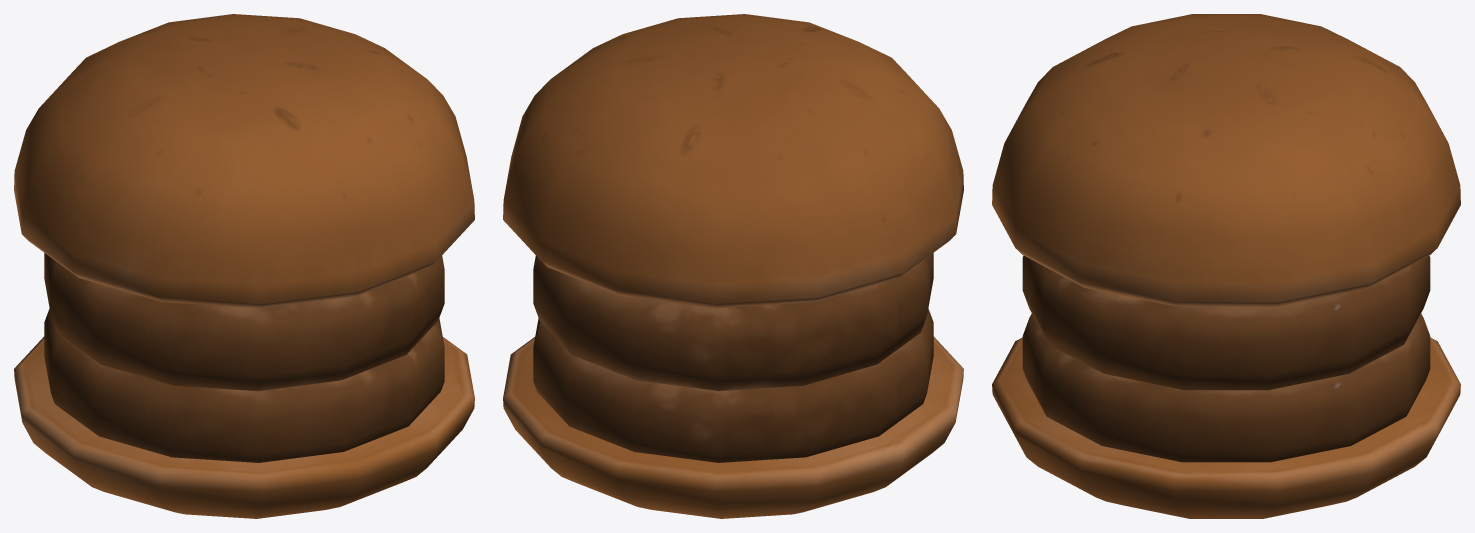
The model's file is MSH_Hamburguesa_P_2C_J.fbx.
The picture shows the model from 3 angles, left to right: view 1: azimuth 30°, elevation 25°; view 2: azimuth 150°, elevation 25°; view 3: azimuth 270°, elevation 25°; orthographic projection.
Visible parts, largest first — view 1: MSH_Hamburguesa_P_2C_J; view 2: MSH_Hamburguesa_P_2C_J; view 3: MSH_Hamburguesa_P_2C_J.
Part boxes in pixels (x1=…): MSH_Hamburguesa_P_2C_J: x1=14, y1=14, x2=474, y2=518; MSH_Hamburguesa_P_2C_J: x1=503, y1=14, x2=963, y2=518; MSH_Hamburguesa_P_2C_J: x1=992, y1=14, x2=1460, y2=518.
Size of the model in its own units: 14.42 by 14.79 by 14.02.
Materials: 1 (1 with a texture image).
